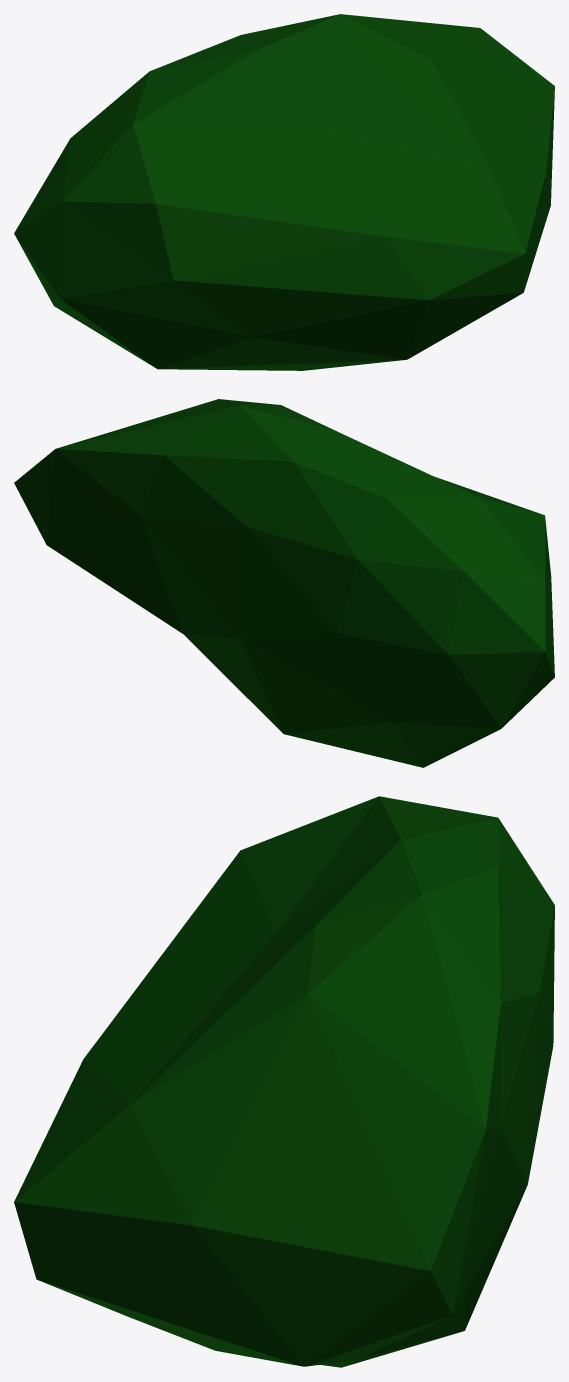
The picture shows the model from 3 angles, top to bottom: view 1: azimuth 30°, elevation 25°; view 2: azimuth 150°, elevation 25°; view 3: azimuth 270°, elevation 25°; orthographic projection. The views are drawn at different scales.
Visible parts, largest first — view 1: forest19_1; view 2: forest19_1; view 3: forest19_1.
Part boxes in pixels (x1,y1,x2,y2): forest19_1: (14,14,554,370); forest19_1: (14,399,554,767); forest19_1: (14,796,554,1367).
Bounding box in the file's own units: 185 × 102 × 108.
